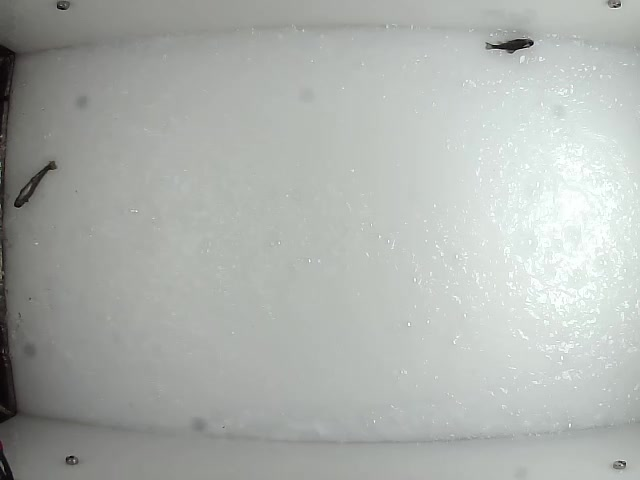fish: (10, 158, 59, 211), (482, 36, 537, 55)
